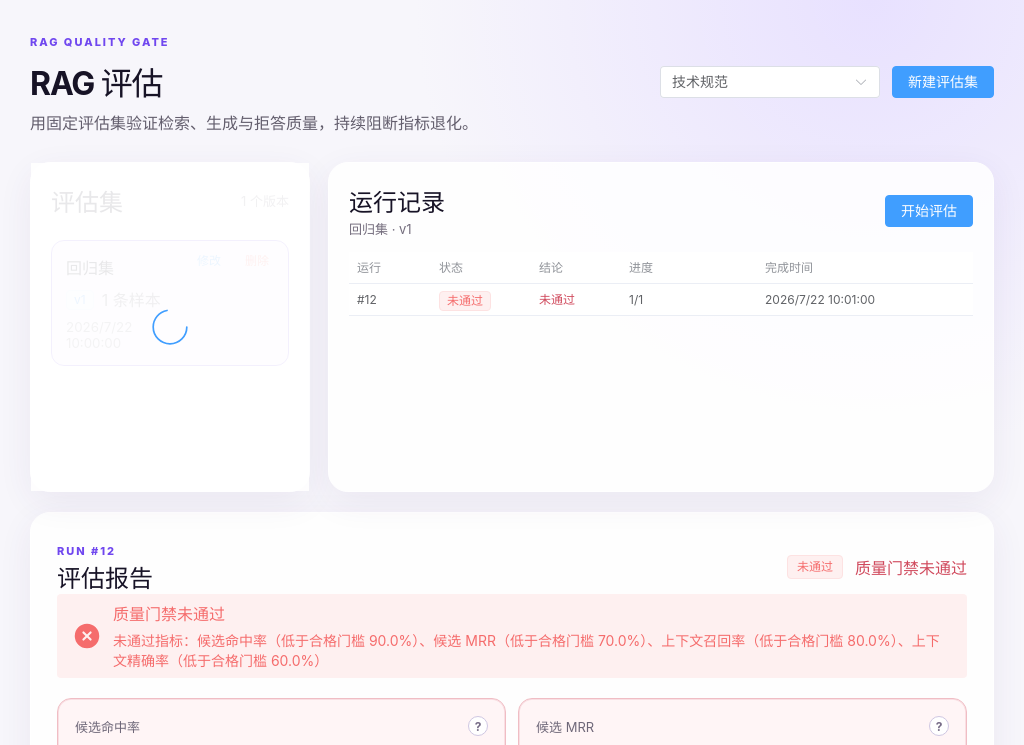
Test: RAG 评估页面 › 创建评估集时从当前知识库加载黄金证据文档
This screenshot has width=1024, height=745.
Click the button "新建评估集".
click(943, 82)  # box [892,66,994,98]
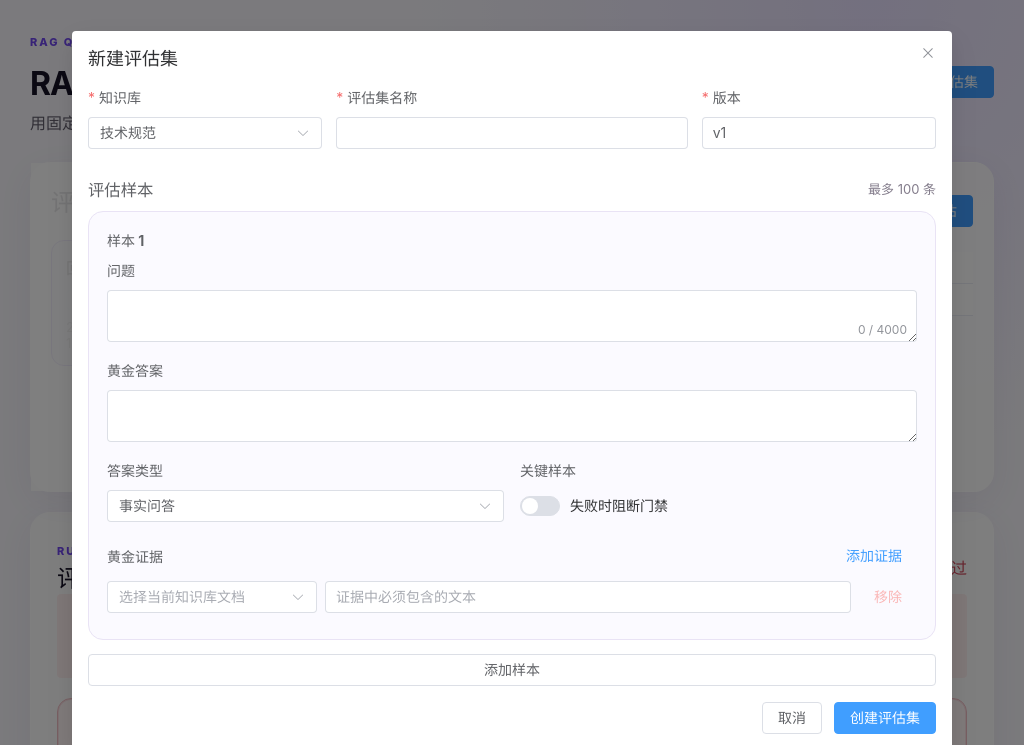
Now the element with test id "source-document-select" is shown, box [107,581,317,613]
